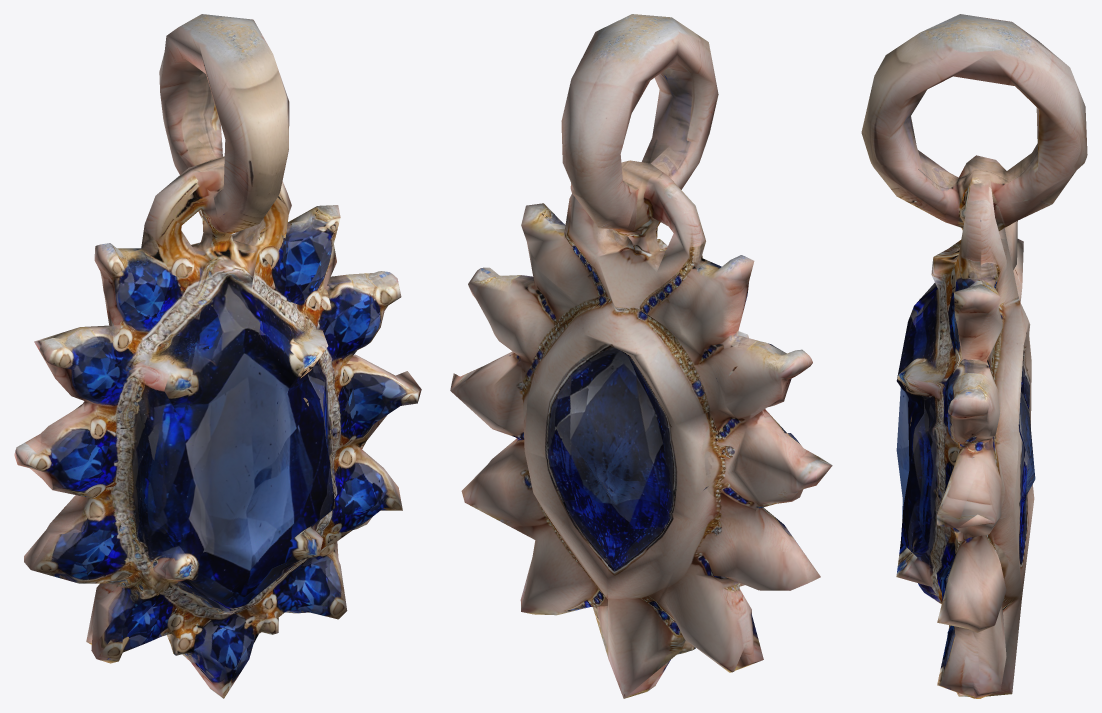
File: pendant1.glb
3 renders of one model, left to right at view 1: azimuth 30°, elevation 25°; view 2: azimuth 150°, elevation 25°; view 3: azimuth 270°, elevation 25°, orthographic.
Visible parts, largest first — view 1: Mesh_0; view 2: Mesh_0; view 3: Mesh_0.
Part boxes in pixels (x1,y1,x2,y2): Mesh_0: (14, 14, 421, 698); Mesh_0: (450, 14, 832, 698); Mesh_0: (861, 14, 1087, 698).
Bounding box in the file's own units: 0.6747 × 1.12 × 0.3393.
Materials: 1 (1 with a texture image).
